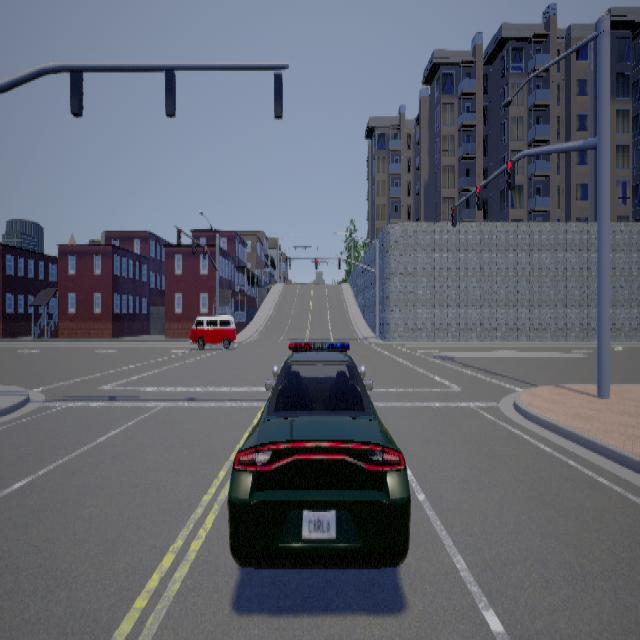red_light: (505, 158, 514, 189), (475, 183, 482, 209), (450, 203, 456, 226), (176, 226, 181, 244), (191, 238, 196, 252), (202, 244, 206, 258), (337, 256, 340, 268), (314, 256, 317, 268)
traffic_light: (288, 256, 290, 268), (278, 254, 280, 261)
vehicle: (226, 340, 410, 568), (189, 313, 236, 349)
